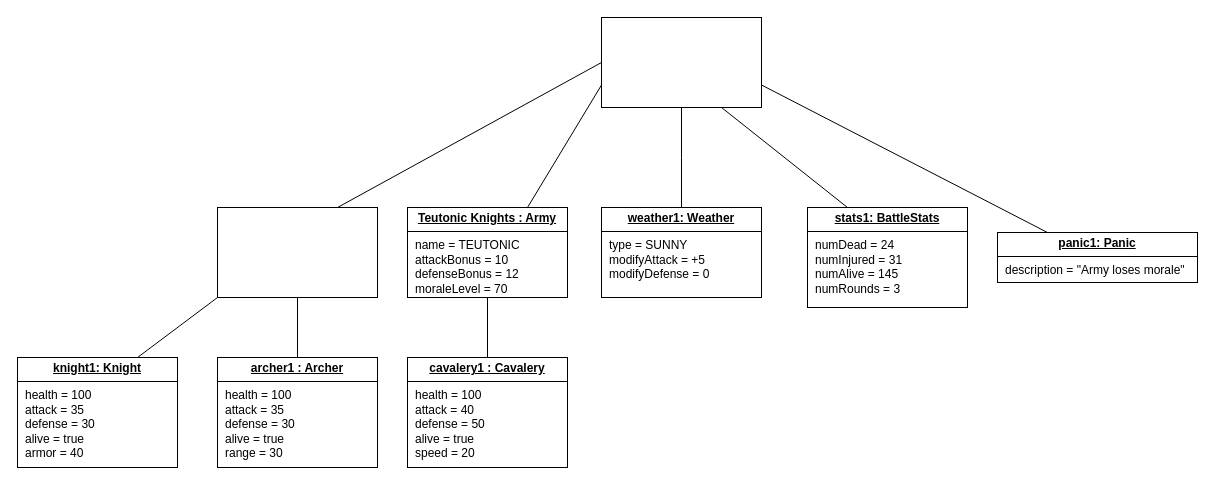
Some shapes in this 1215 by 485 pixel diagram are drawn without their labels. Here are the shapes that lost their labels. From the top down, the box of each, then its label:
(600, 16, 762, 108): battle1: Battle round = 2 result = HUSSARS_WINS
(216, 206, 378, 298): Hussars : Army name = HUSSARS attackBonus = 15 defenseBonus = 8 moraleLevel = 80
